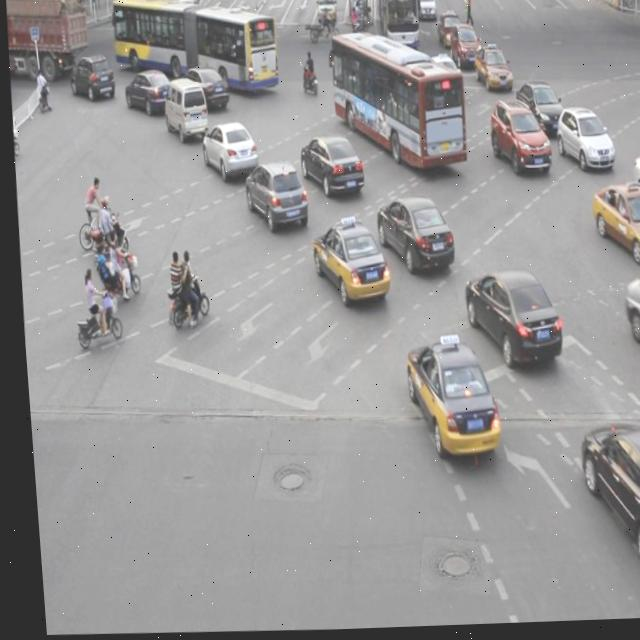car: (397, 338, 495, 458), (568, 420, 640, 578), (456, 266, 559, 369), (305, 219, 386, 305), (371, 194, 451, 276), (483, 101, 550, 178), (240, 158, 305, 232), (585, 180, 640, 266), (295, 134, 362, 200), (550, 108, 613, 177), (197, 120, 256, 182), (511, 81, 564, 143), (176, 66, 228, 115), (122, 68, 172, 116), (66, 54, 114, 103), (471, 47, 511, 94), (624, 151, 640, 232)
truck: (613, 257, 640, 395), (159, 78, 207, 139)
van: (326, 35, 466, 172), (111, 0, 278, 92)
